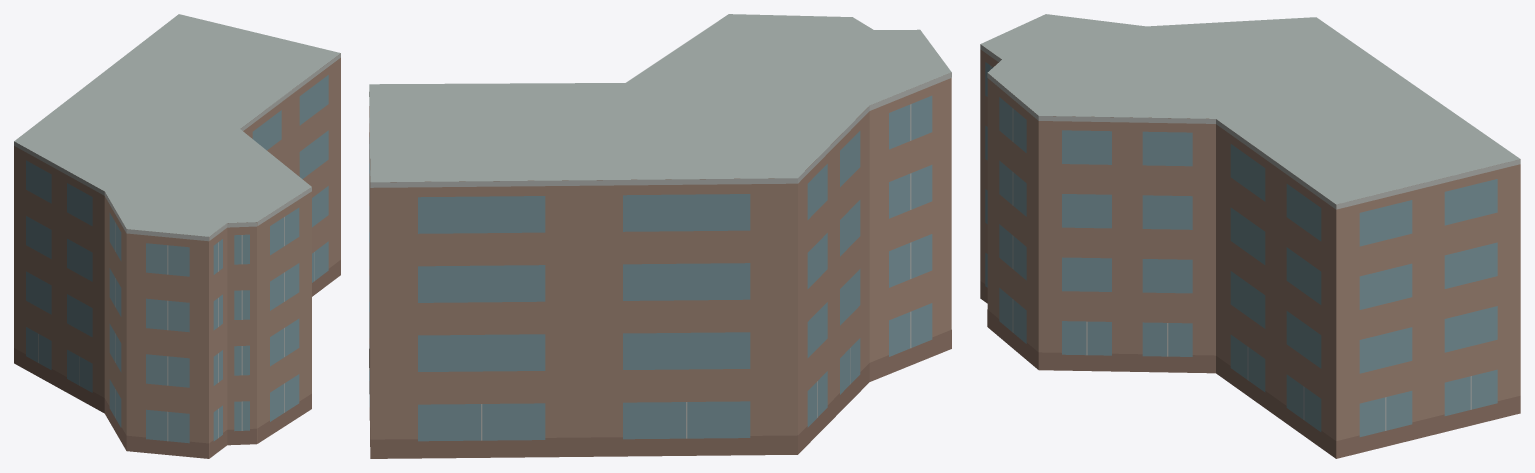
The model's file is residential-7bc7d753-1aa1-4658-8432-d42c4c83c1b0.glb.
3 renders of one model, left to right at view 1: azimuth 30°, elevation 25°; view 2: azimuth 150°, elevation 25°; view 3: azimuth 270°, elevation 25°, orthographic. The views are drawn at different scales.
Parts seen in each view (by area): view 1: residential-7bc7d753-1aa1-4658-8432-d42c4c83c1b0.tmp; view 2: residential-7bc7d753-1aa1-4658-8432-d42c4c83c1b0.tmp; view 3: residential-7bc7d753-1aa1-4658-8432-d42c4c83c1b0.tmp.
Part boxes in pixels (left/top/right/bottom): residential-7bc7d753-1aa1-4658-8432-d42c4c83c1b0.tmp: left=14, top=14, right=340, bottom=458; residential-7bc7d753-1aa1-4658-8432-d42c4c83c1b0.tmp: left=369, top=14, right=951, bottom=458; residential-7bc7d753-1aa1-4658-8432-d42c4c83c1b0.tmp: left=980, top=14, right=1520, bottom=458.
Bounding box in the file's own units: 19.62 × 12.2 × 23.5.
